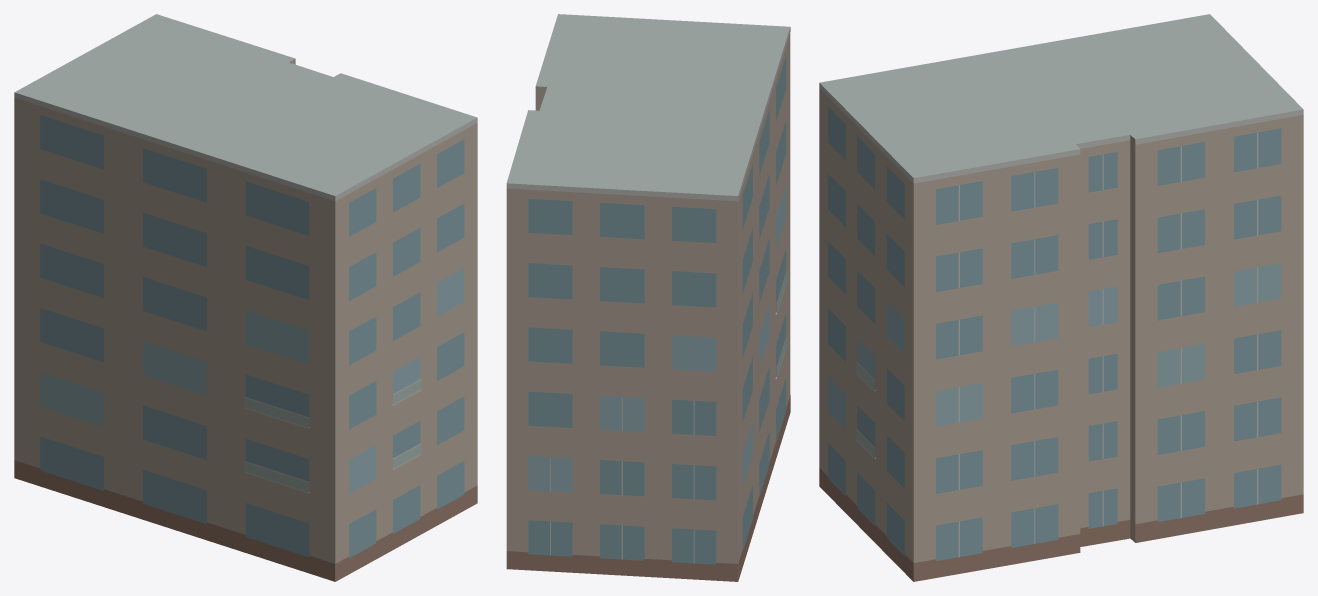
The model's file is survey-upis-32699376.glb.
3 views of the same model, side by side, from view 1: azimuth 30°, elevation 25°; view 2: azimuth 150°, elevation 25°; view 3: azimuth 270°, elevation 25° (orthographic). The views are drawn at different scales.
Parts seen in each view (by area): view 1: survey-upis-32699376.tmp; view 2: survey-upis-32699376.tmp; view 3: survey-upis-32699376.tmp.
Boxes of the visible parts, bbox=[...] form: survey-upis-32699376.tmp: bbox=[14, 14, 477, 581]; survey-upis-32699376.tmp: bbox=[506, 14, 790, 581]; survey-upis-32699376.tmp: bbox=[819, 14, 1303, 581].
Size of the model in its own units: 15.98 by 18.3 by 19.91.
